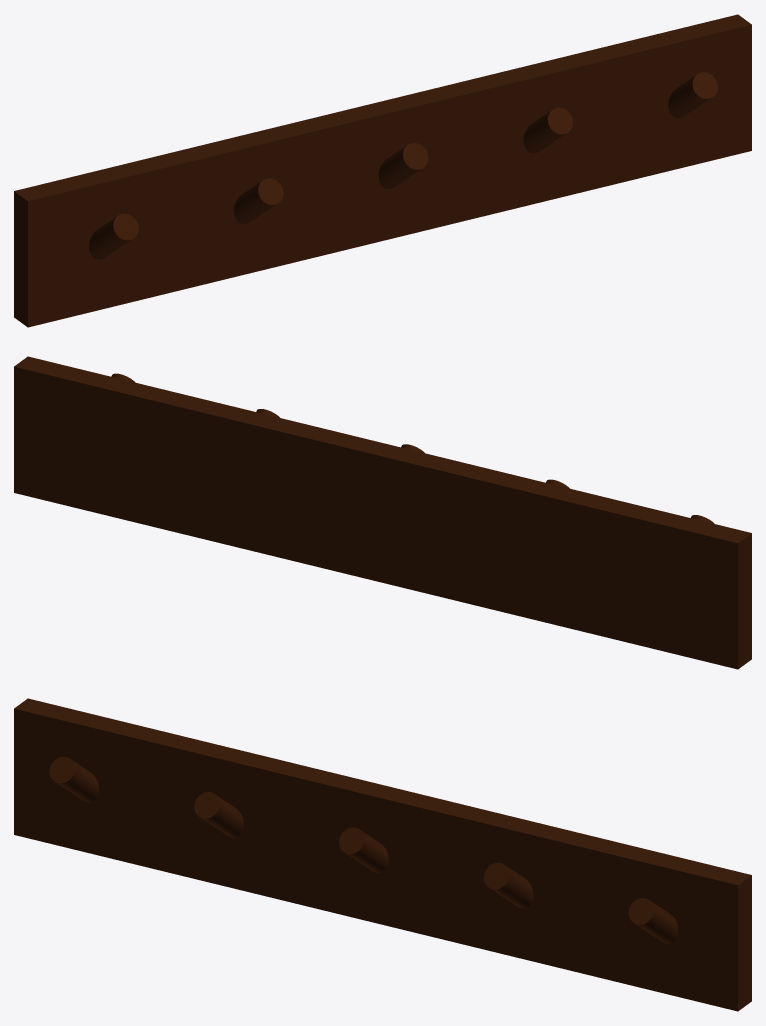
Rendered from KEY HOLDER 1.fbx.
The picture shows the model from 3 angles, top to bottom: view 1: azimuth 30°, elevation 25°; view 2: azimuth 150°, elevation 25°; view 3: azimuth 330°, elevation 25°; orthographic projection.
Parts seen in each view (by area): view 1: Box001, Cylinder002, Cylinder004, Cylinder001, Cylinder003, Cylinder005; view 2: Box001; view 3: Box001, Cylinder001, Cylinder003, Cylinder004, Cylinder002, Cylinder005.
Part boxes in pixels (x1,y1,x2,y2): Box001: (14, 14, 751, 327); Cylinder002: (89, 213, 138, 259); Cylinder004: (523, 107, 573, 153); Cylinder001: (234, 178, 283, 224); Cylinder003: (668, 72, 717, 118); Cylinder005: (378, 143, 428, 188); Box001: (14, 356, 751, 669); Box001: (14, 698, 751, 1011); Cylinder001: (194, 792, 243, 837); Cylinder003: (628, 898, 678, 943); Cylinder004: (484, 862, 533, 908); Cylinder002: (49, 756, 98, 802); Cylinder005: (339, 827, 388, 873).
Bounding box in the file's own units: 60 × 10 × 6.18.
